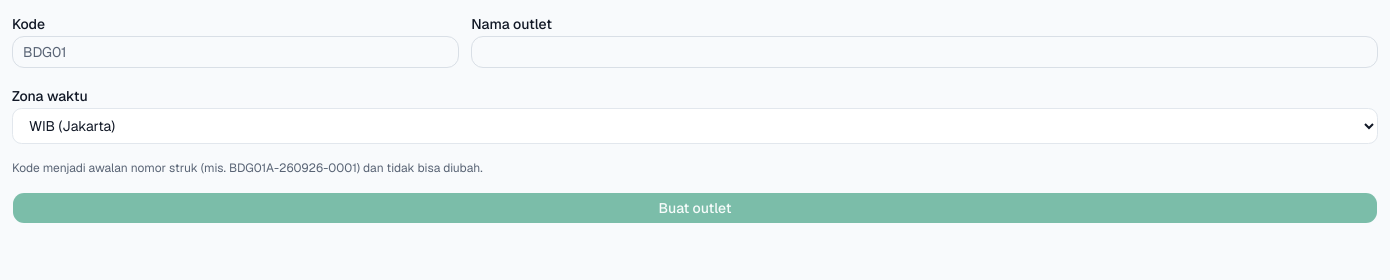
Test: NewOutletForm › explains a code that is already used
The image size is (1390, 280).
Type "JKT01" into the field labelled "Kode" at (236, 52), box x1=12 y1=36 x2=459 y2=68
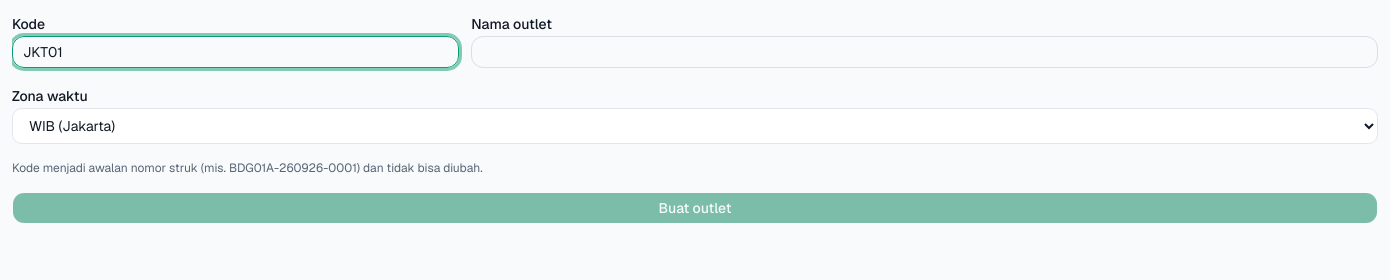
Type "Kemang 2" into the field labelled "Nama outlet" at (925, 52), box x1=471 y1=36 x2=1378 y2=68
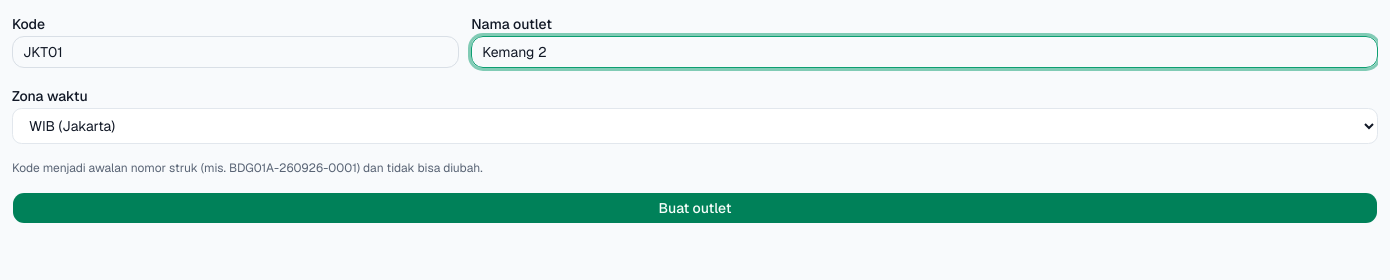
Click the button "Buat outlet" at (695, 208), box x1=12 y1=192 x2=1378 y2=224
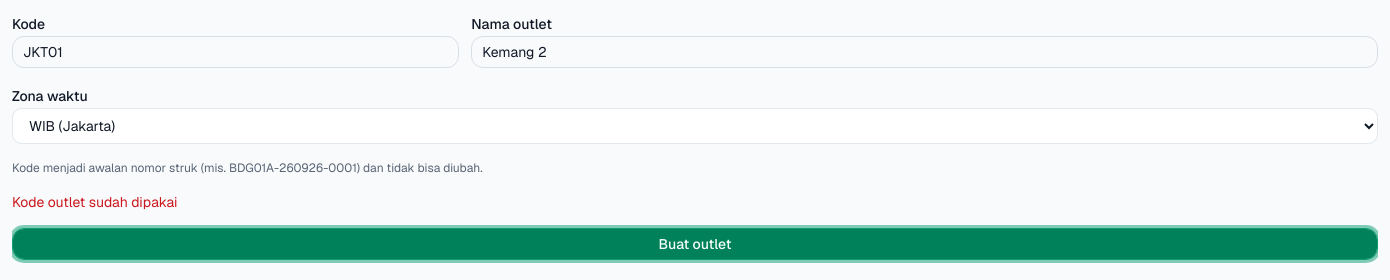
Check: the message reads "Kode outlet sudah dipakai", box x1=12 y1=193 x2=178 y2=211
